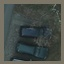car: (17, 44, 48, 58), (19, 25, 44, 35)
